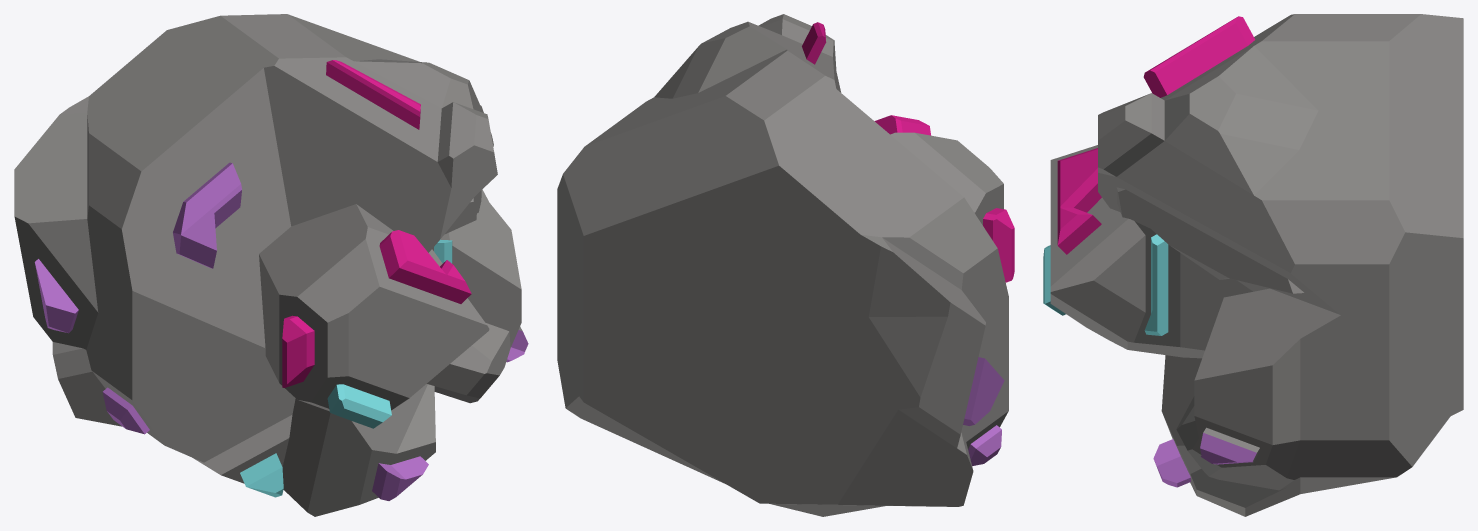
File: resource_node.obj
3 renders of one model, left to right at view 1: azimuth 30°, elevation 25°; view 2: azimuth 150°, elevation 25°; view 3: azimuth 270°, elevation 25°, orthographic. The views are drawn at different scales.
Visible parts, largest first — view 1: Body_01; view 2: Body_01; view 3: Body_01.
Boxes of the visible parts, x1,y1,x2,y2 form: Body_01: (14,14,528,516); Body_01: (557,14,1014,516); Body_01: (1043,14,1463,516).
Size of the model in its own units: 1.44 by 1.43 by 1.13.
